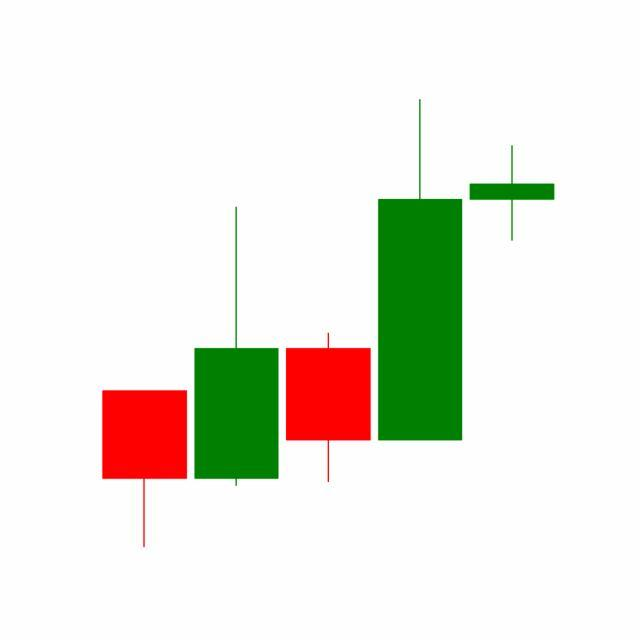Spinning Top: (466, 144, 559, 243)
